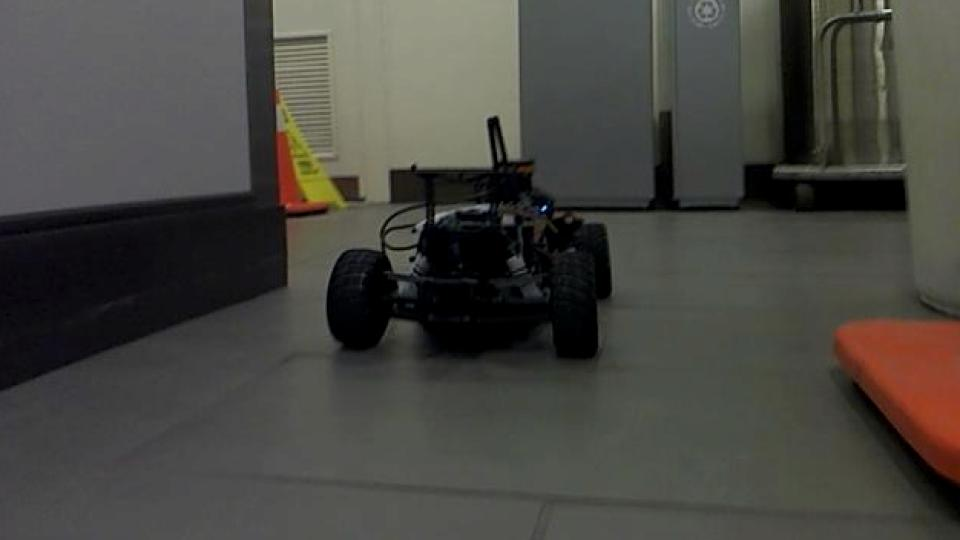car: (323, 114, 616, 362)
